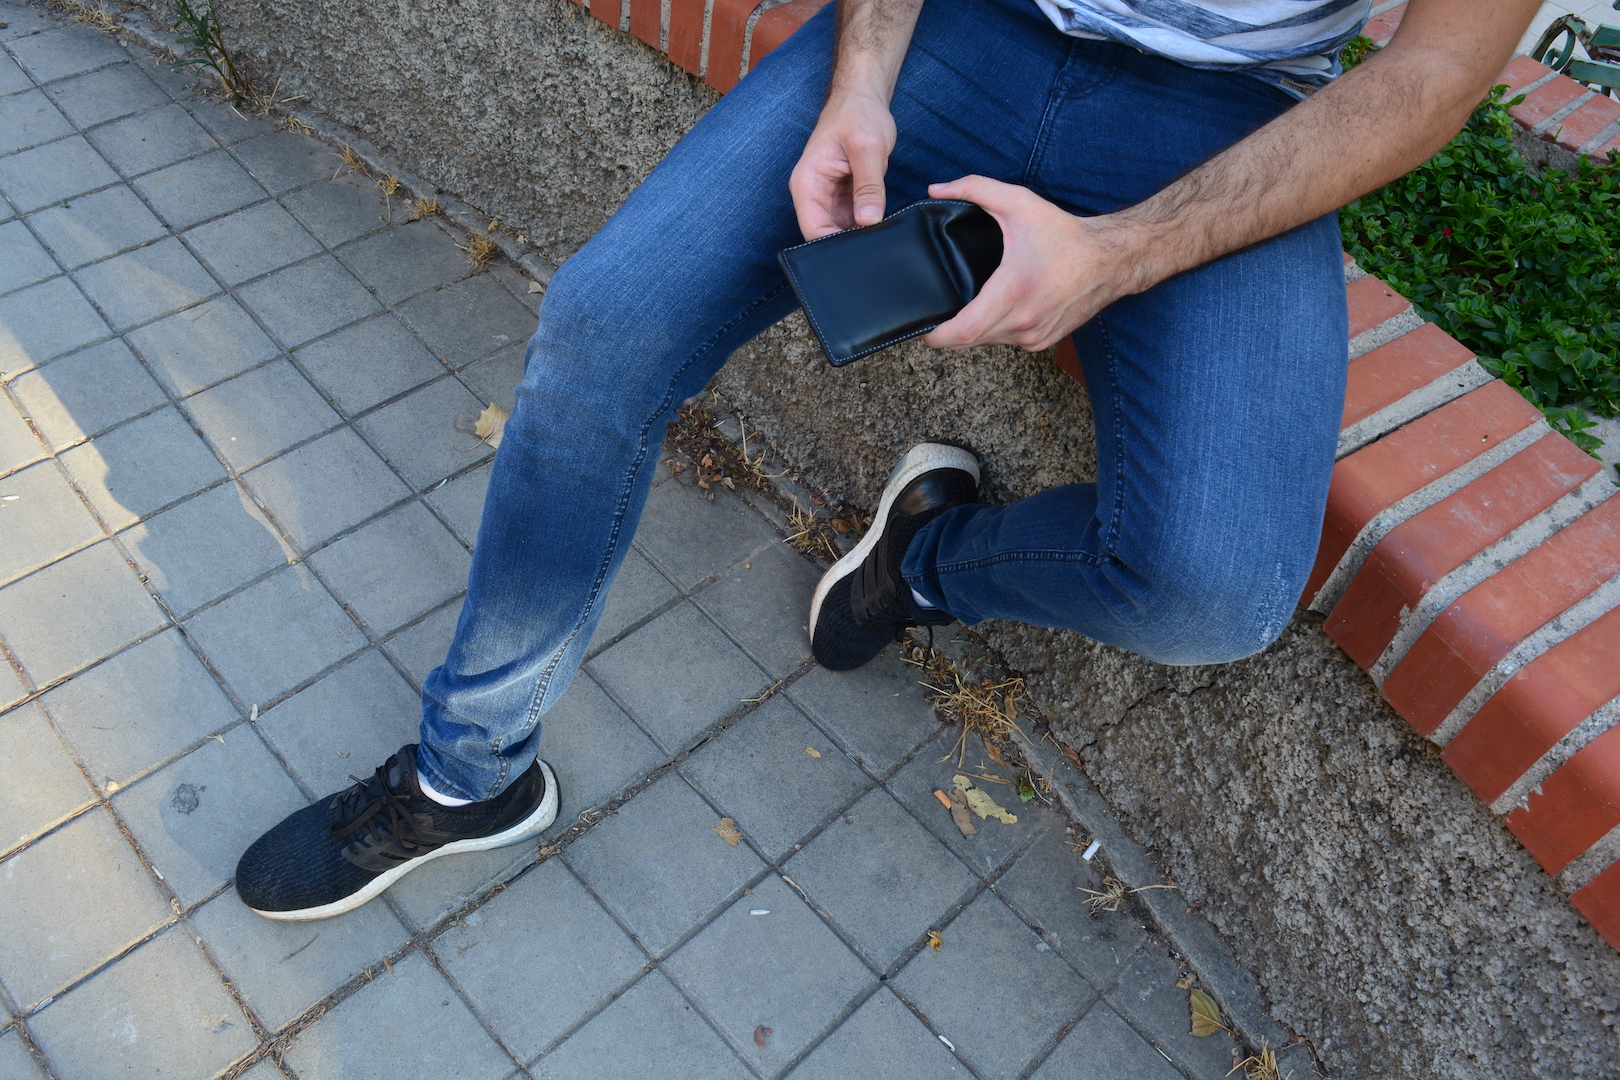monedero: (775, 196, 1004, 369)
